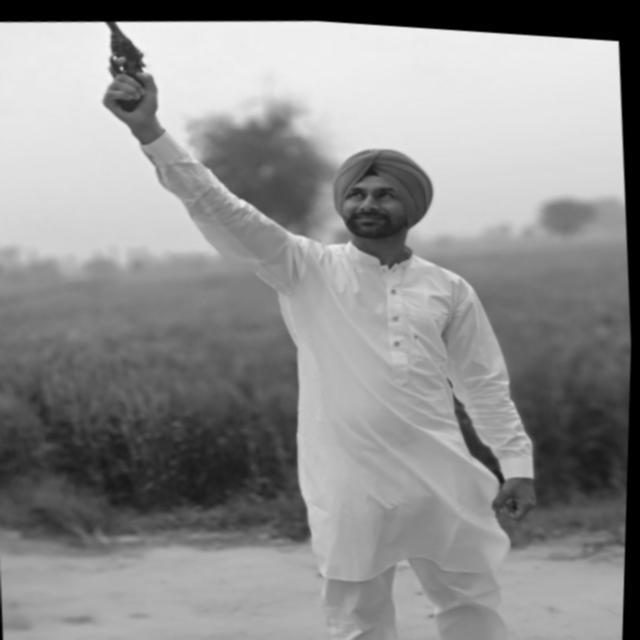weapon: (92, 16, 164, 122)
